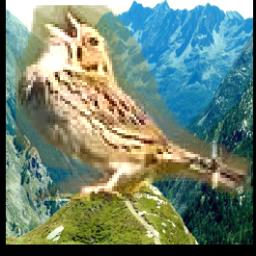Sparrow: (15, 5, 251, 201)
